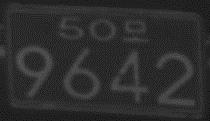0: (88, 16, 117, 42)
2: (155, 50, 195, 108)
4: (108, 49, 147, 104)
5: (58, 15, 83, 40)
6: (62, 46, 101, 100)
9: (15, 44, 53, 97)
모: (121, 19, 151, 42)
